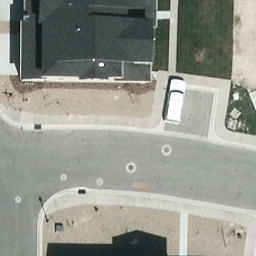car: (162, 74, 188, 125)
